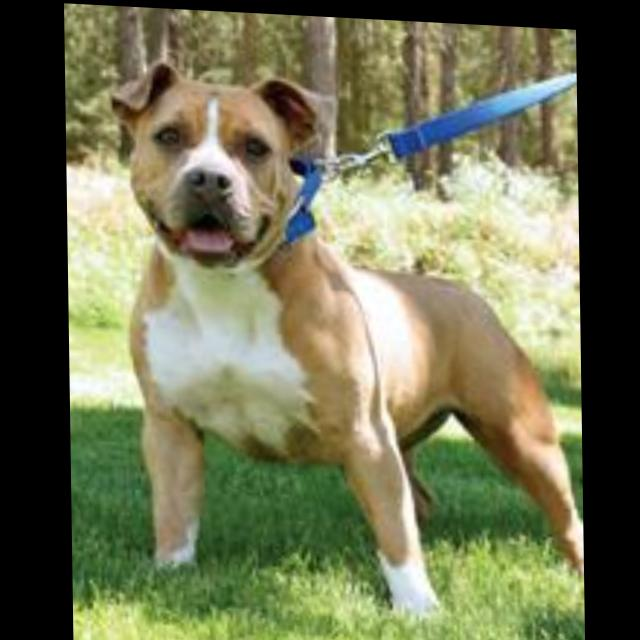staffford: (106, 55, 583, 623)
